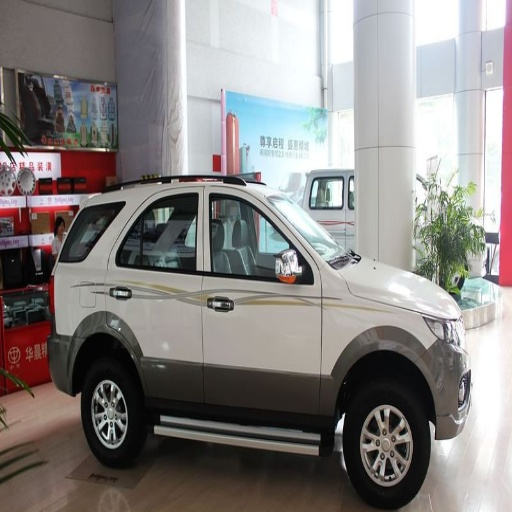back_right_door: (100, 186, 205, 414)
front_right_door: (205, 187, 322, 425)
